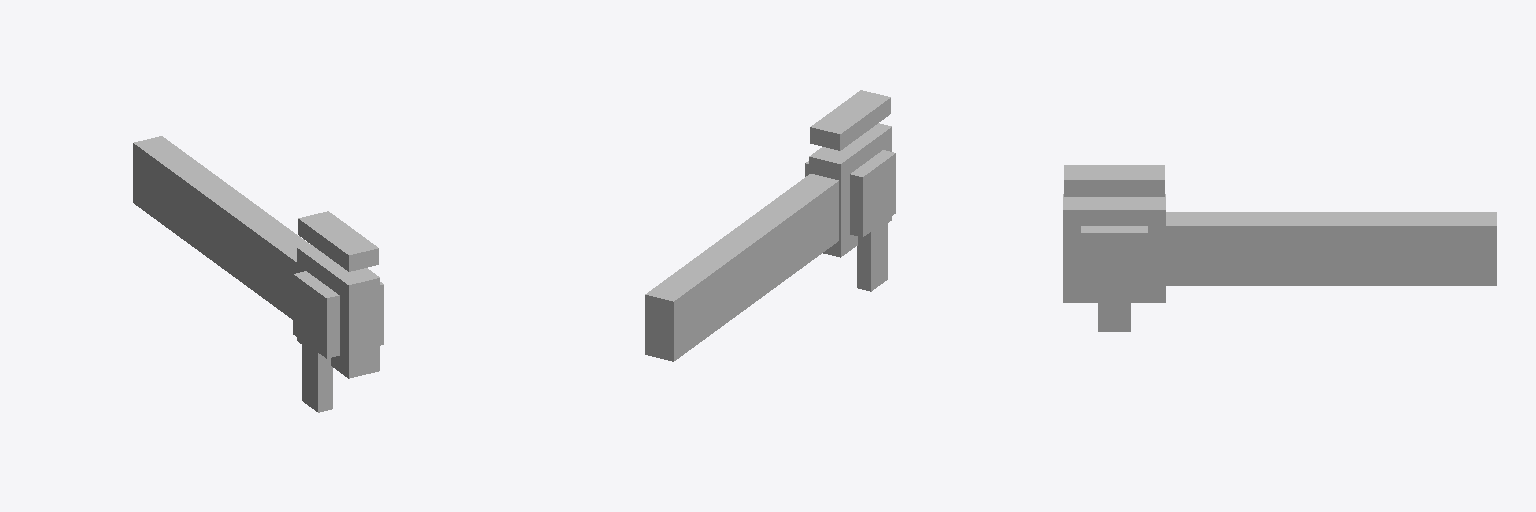
File: left_p_rod.obj
The picture shows the model from 3 angles: view 1: azimuth 30°, elevation 25°; view 2: azimuth 150°, elevation 25°; view 3: azimuth 270°, elevation 25°; orthographic projection.
Parts seen in each view (by area): view 1: Rod; view 2: Rod; view 3: Rod.
Part boxes in pixels (x1,y1,x2,y2): Rod: (133, 136, 383, 412); Rod: (645, 90, 895, 361); Rod: (1063, 165, 1496, 331).
Bounding box in the file's own units: 0.25 × 0.6906 × 1.63.